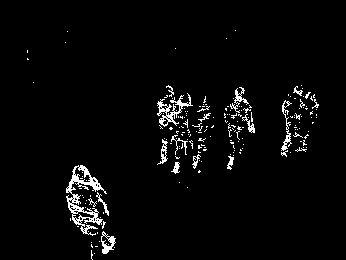person: (66, 165, 116, 255), (223, 86, 254, 171), (172, 93, 194, 174), (281, 82, 301, 156), (158, 84, 175, 166), (195, 97, 214, 168), (299, 91, 317, 152)
